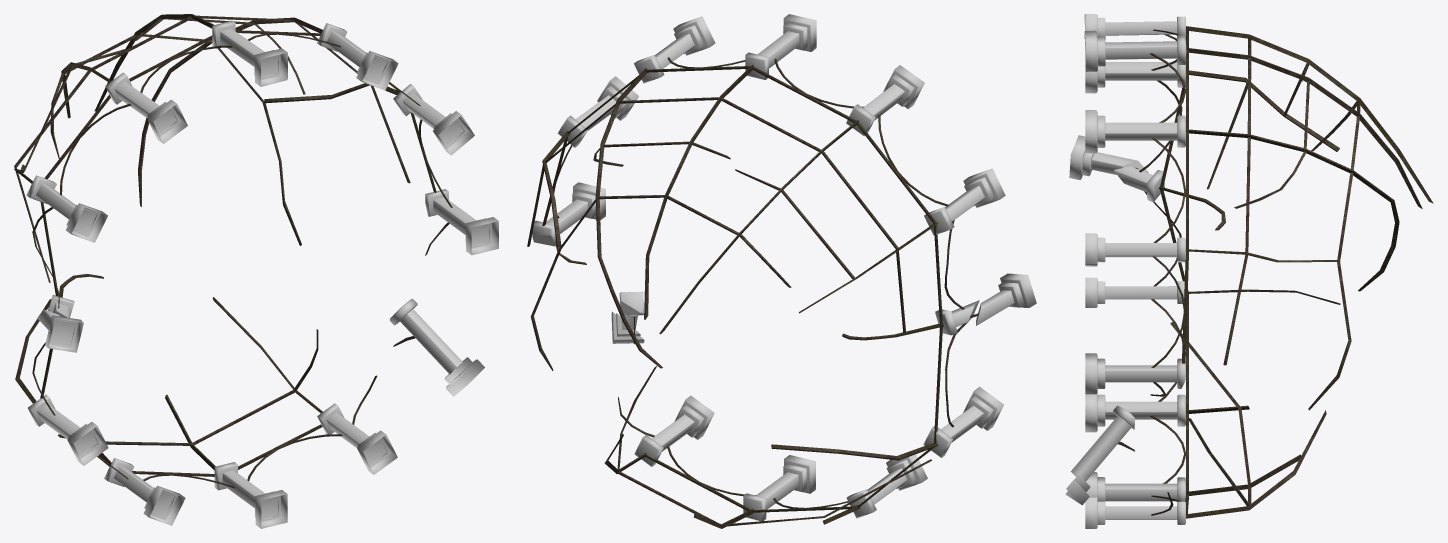
Rendered from TI_Dome_02.fbx.
The picture shows the model from 3 angles, left to right: view 1: azimuth 30°, elevation 25°; view 2: azimuth 150°, elevation 25°; view 3: azimuth 270°, elevation 25°; orthographic projection.
Visible parts, largest first — view 1: TI_Dome_Pillars_02, Ti_Dome_02; view 2: TI_Dome_Pillars_02, Ti_Dome_02; view 3: TI_Dome_Pillars_02, Ti_Dome_02.
Boxes of the visible parts, x1,y1,x2,y2 form: TI_Dome_Pillars_02: (26, 20, 498, 528); Ti_Dome_02: (14, 14, 452, 488); TI_Dome_Pillars_02: (532, 14, 1036, 521); Ti_Dome_02: (527, 57, 978, 528); TI_Dome_Pillars_02: (1065, 14, 1186, 528); Ti_Dome_02: (1118, 26, 1433, 518).
Bounding box in the file's own units: 24.12 × 23.82 × 16.96.
